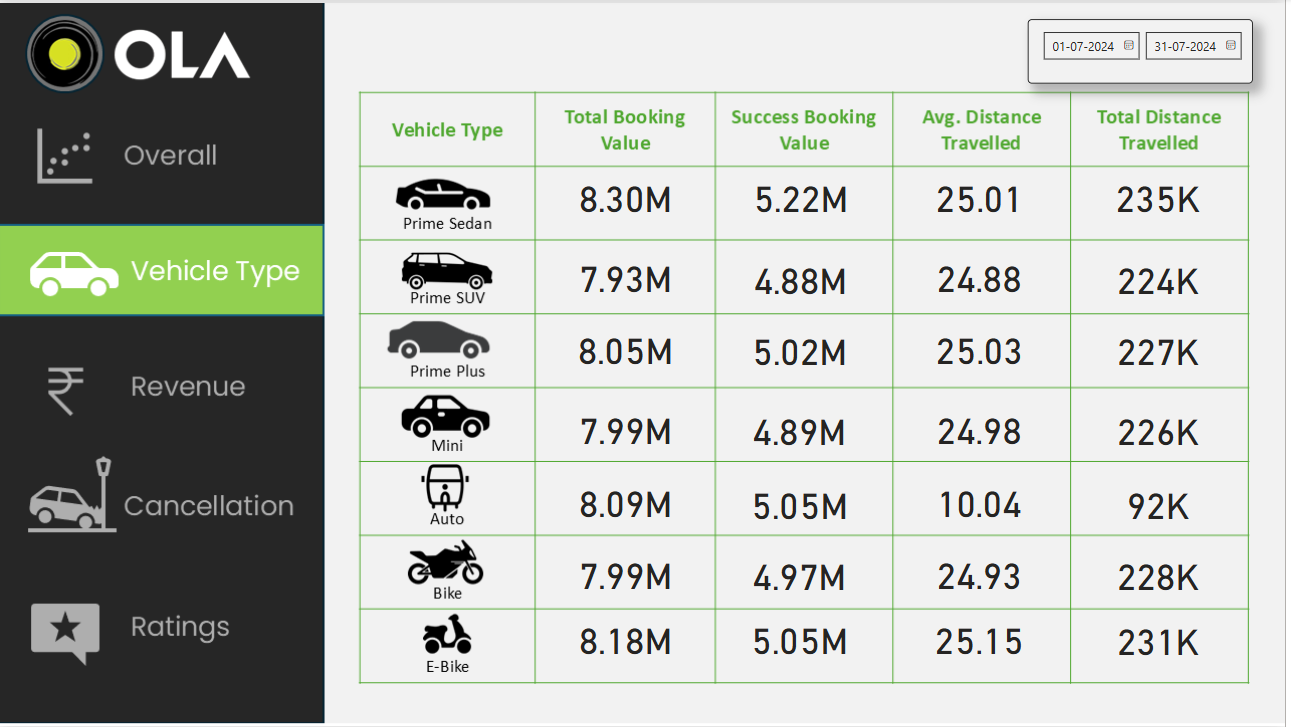

The dashboard page shown, as its layout file describes it:
{"tool":"powerbi","page":{"name":"Vehicle Type","canvas":[1280,720],"ordinal":1},"visuals":[{"type":"actionButton","box":[0,217.7,320,96],"z":0},{"type":"actionButton","box":[0,329.7,320,96],"z":1000},{"type":"actionButton","box":[0,441.7,320,96],"z":2000},{"type":"actionButton","box":[0,569.7,320,96],"z":3000},{"type":"actionButton","box":[0,112,320,96],"z":4000},{"type":"card","fields":{"Values":["Sum(Bookings.Booking_Value)"]},"box":[544,160,160,64],"z":5000},{"type":"card","fields":{"Values":["Sum(Bookings.Booking_Value)"]},"box":[544,240,160,64],"z":6000},{"type":"card","fields":{"Values":["Sum(Bookings.Booking_Value)"]},"box":[560,320,128,48],"z":7000},{"type":"card","fields":{"Values":["Sum(Bookings.Booking_Value)"]},"box":[560,400,128,48],"z":8000},{"type":"card","fields":{"Values":["Sum(Bookings.Booking_Value)"]},"box":[560,464,128,64],"z":9000},{"type":"card","fields":{"Values":["Sum(Bookings.Booking_Value)"]},"box":[560,544,128,48],"z":10000},{"type":"card","fields":{"Values":["Sum(Bookings.Booking_Value)"]},"box":[560,608,128,48],"z":11000},{"type":"card","fields":{"Values":["Sum(Bookings.Booking_Value)"]},"box":[717.4,160.9,160,64],"z":12000},{"type":"card","fields":{"Values":["Sum(Bookings.Booking_Value)"]},"box":[717.4,240.9,160,64],"z":13000},{"type":"card","fields":{"Values":["Sum(Bookings.Booking_Value)"]},"box":[733.4,320.9,128,48],"z":14000},{"type":"card","fields":{"Values":["Sum(Bookings.Booking_Value)"]},"box":[733.4,400.9,128,48],"z":15000},{"type":"card","fields":{"Values":["Sum(Bookings.Booking_Value)"]},"box":[733.4,464.9,128,64],"z":16000},{"type":"card","fields":{"Values":["Sum(Bookings.Booking_Value)"]},"box":[733.4,544.9,128,48],"z":17000},{"type":"card","fields":{"Values":["Sum(Bookings.Booking_Value)"]},"box":[733.4,608.9,128,48],"z":18000},{"type":"card","fields":{"Values":["Avg(Bookings.Ride_Distance)"]},"box":[896,160,160,64],"z":19000},{"type":"card","fields":{"Values":["Avg(Bookings.Ride_Distance)"]},"box":[896,240,160,64],"z":20000},{"type":"card","fields":{"Values":["Avg(Bookings.Ride_Distance)"]},"box":[896,320,160,48],"z":21000},{"type":"card","fields":{"Values":["Avg(Bookings.Ride_Distance)"]},"box":[896,400,160,48],"z":22000},{"type":"card","fields":{"Values":["Avg(Bookings.Ride_Distance)"]},"box":[896,464,160,64],"z":23000},{"type":"card","fields":{"Values":["Avg(Bookings.Ride_Distance)"]},"box":[896,528,160,80],"z":24000},{"type":"card","fields":{"Values":["Avg(Bookings.Ride_Distance)"]},"box":[896,592,160,80],"z":25000},{"type":"card","fields":{"Values":["Sum(Bookings.Ride_Distance)"]},"box":[1073.1,160.9,160,64],"z":26000},{"type":"card","fields":{"Values":["Sum(Bookings.Ride_Distance)"]},"box":[1073.1,240.9,160,64],"z":27000},{"type":"card","fields":{"Values":["Sum(Bookings.Ride_Distance)"]},"box":[1073.1,320.9,160,48],"z":28000},{"type":"card","fields":{"Values":["Sum(Bookings.Ride_Distance)"]},"box":[1073.1,400.9,160,48],"z":29000},{"type":"card","fields":{"Values":["Sum(Bookings.Ride_Distance)"]},"box":[1073.1,464.9,160,64],"z":30000},{"type":"card","fields":{"Values":["Sum(Bookings.Ride_Distance)"]},"box":[1073.1,528.9,160,80],"z":31000},{"type":"card","fields":{"Values":["Sum(Bookings.Ride_Distance)"]},"box":[1073.1,592.9,160,80],"z":32000},{"type":"slicer","title":"Date","fields":{"Values":["Bookings.Date"]},"box":[1024,16,224,64],"z":33000}]}

Visuals, with their boxes on the page's 1280x720 design canvas (x1, y1, x2, y2). These are canvas units, not pixel positions in the 1291x727 screenshot, which may show the page scaled, cropped or inside an application window:
actionButton: <bbox>0, 218, 320, 314</bbox>
actionButton: <bbox>0, 330, 320, 426</bbox>
actionButton: <bbox>0, 442, 320, 538</bbox>
actionButton: <bbox>0, 570, 320, 666</bbox>
actionButton: <bbox>0, 112, 320, 208</bbox>
card - Sum(Bookings.Booking_Value): <bbox>544, 160, 704, 224</bbox>
card - Sum(Bookings.Booking_Value): <bbox>544, 240, 704, 304</bbox>
card - Sum(Bookings.Booking_Value): <bbox>560, 320, 688, 368</bbox>
card - Sum(Bookings.Booking_Value): <bbox>560, 400, 688, 448</bbox>
card - Sum(Bookings.Booking_Value): <bbox>560, 464, 688, 528</bbox>
card - Sum(Bookings.Booking_Value): <bbox>560, 544, 688, 592</bbox>
card - Sum(Bookings.Booking_Value): <bbox>560, 608, 688, 656</bbox>
card - Sum(Bookings.Booking_Value): <bbox>717, 161, 877, 225</bbox>
card - Sum(Bookings.Booking_Value): <bbox>717, 241, 877, 305</bbox>
card - Sum(Bookings.Booking_Value): <bbox>733, 321, 861, 369</bbox>
card - Sum(Bookings.Booking_Value): <bbox>733, 401, 861, 449</bbox>
card - Sum(Bookings.Booking_Value): <bbox>733, 465, 861, 529</bbox>
card - Sum(Bookings.Booking_Value): <bbox>733, 545, 861, 593</bbox>
card - Sum(Bookings.Booking_Value): <bbox>733, 609, 861, 657</bbox>
card - Avg(Bookings.Ride_Distance): <bbox>896, 160, 1056, 224</bbox>
card - Avg(Bookings.Ride_Distance): <bbox>896, 240, 1056, 304</bbox>
card - Avg(Bookings.Ride_Distance): <bbox>896, 320, 1056, 368</bbox>
card - Avg(Bookings.Ride_Distance): <bbox>896, 400, 1056, 448</bbox>
card - Avg(Bookings.Ride_Distance): <bbox>896, 464, 1056, 528</bbox>
card - Avg(Bookings.Ride_Distance): <bbox>896, 528, 1056, 608</bbox>
card - Avg(Bookings.Ride_Distance): <bbox>896, 592, 1056, 672</bbox>
card - Sum(Bookings.Ride_Distance): <bbox>1073, 161, 1233, 225</bbox>
card - Sum(Bookings.Ride_Distance): <bbox>1073, 241, 1233, 305</bbox>
card - Sum(Bookings.Ride_Distance): <bbox>1073, 321, 1233, 369</bbox>
card - Sum(Bookings.Ride_Distance): <bbox>1073, 401, 1233, 449</bbox>
card - Sum(Bookings.Ride_Distance): <bbox>1073, 465, 1233, 529</bbox>
card - Sum(Bookings.Ride_Distance): <bbox>1073, 529, 1233, 609</bbox>
card - Sum(Bookings.Ride_Distance): <bbox>1073, 593, 1233, 673</bbox>
"Date" slicer: <bbox>1024, 16, 1248, 80</bbox>
